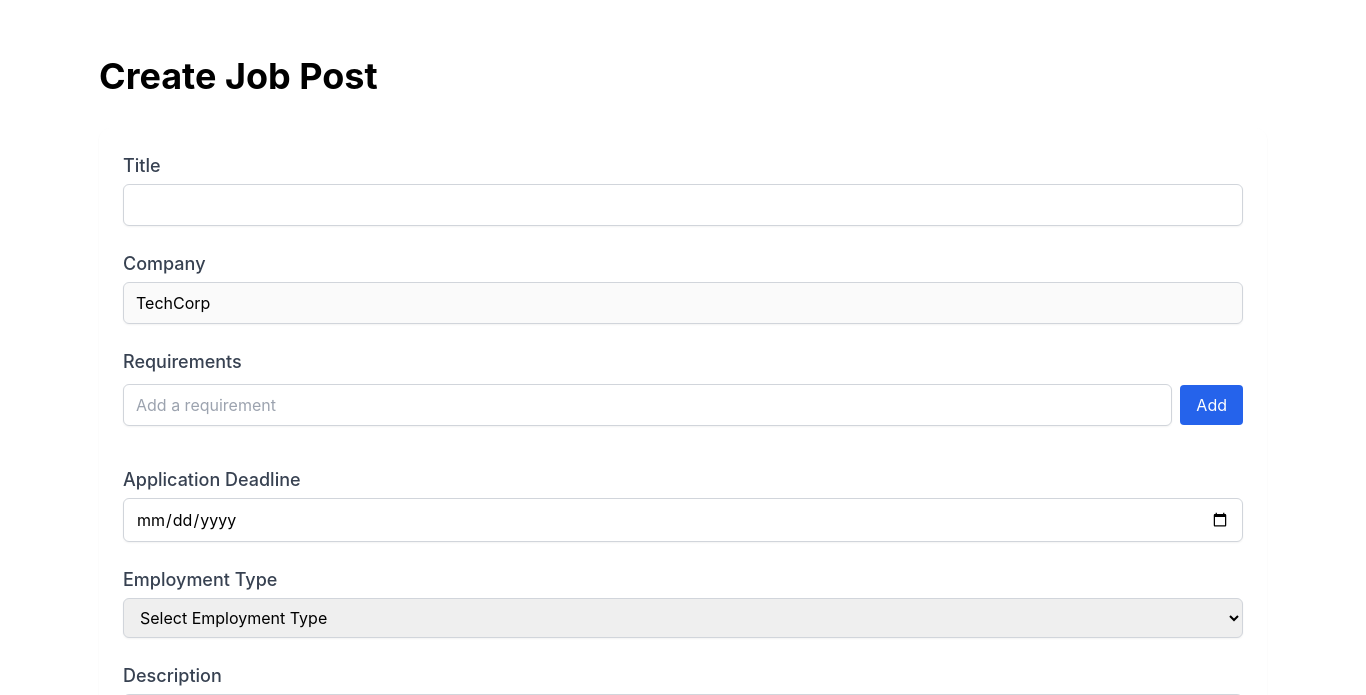
it: CreateJobPost Component › should handle adding and removing requirements
The width and height of the screenshot is (1366, 695).
Expected: the field labelled "Company" holds "TechCorp", top-left (123, 282), bottom-right (1243, 324)
// Add first requirement
Type "5+ years experience" into the field with placeholder "Add a requirement" at (648, 405), box top-left (123, 384), bottom-right (1172, 426)
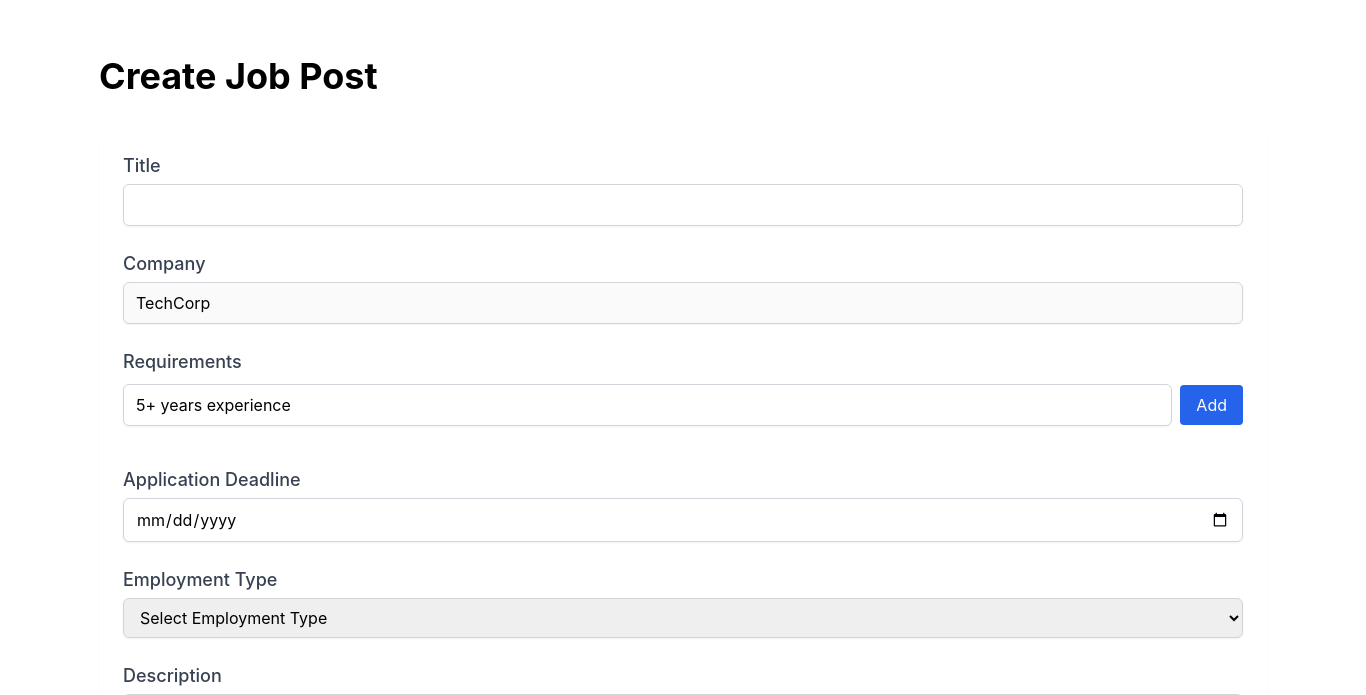
Click the button "Add" at (1212, 405), box top-left (1180, 385), bottom-right (1243, 425)
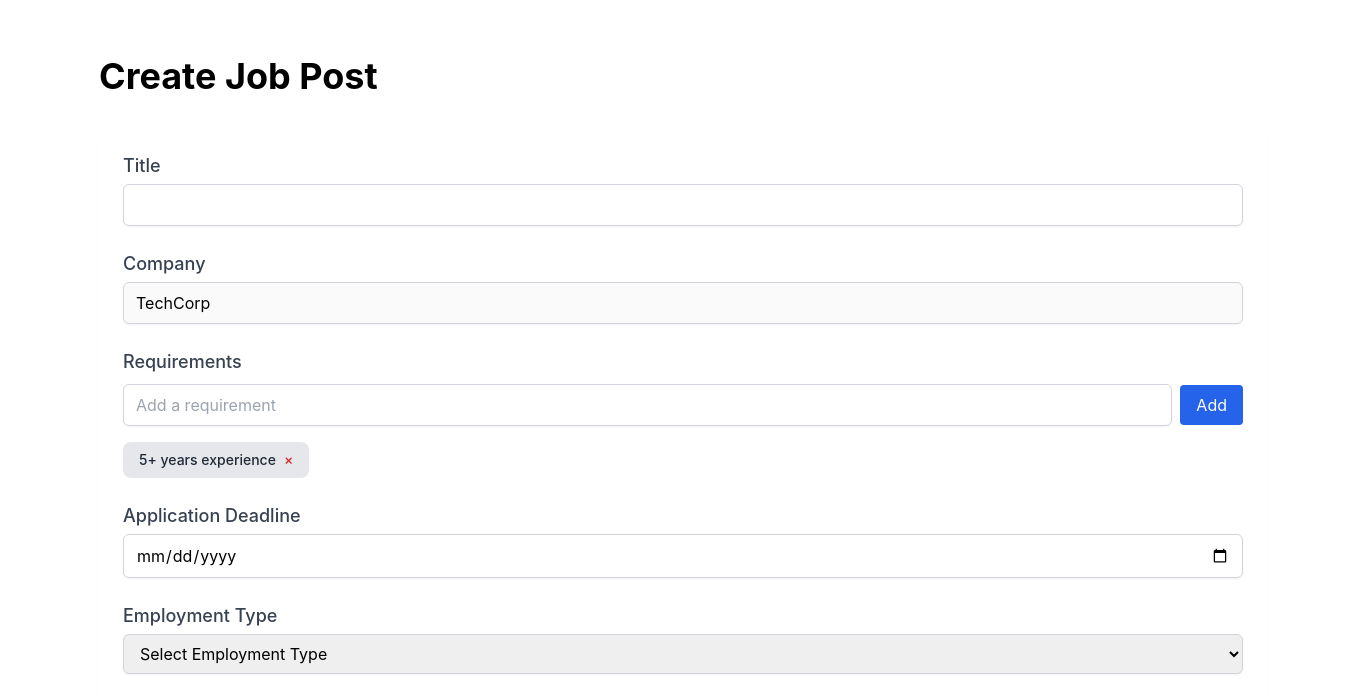
Result: the text "5+ years experience" is shown at top-left (139, 451), bottom-right (276, 468)
// Add second requirement
Type "React expertise" into the field with placeholder "Add a requirement" at (648, 405), box top-left (123, 384), bottom-right (1172, 426)
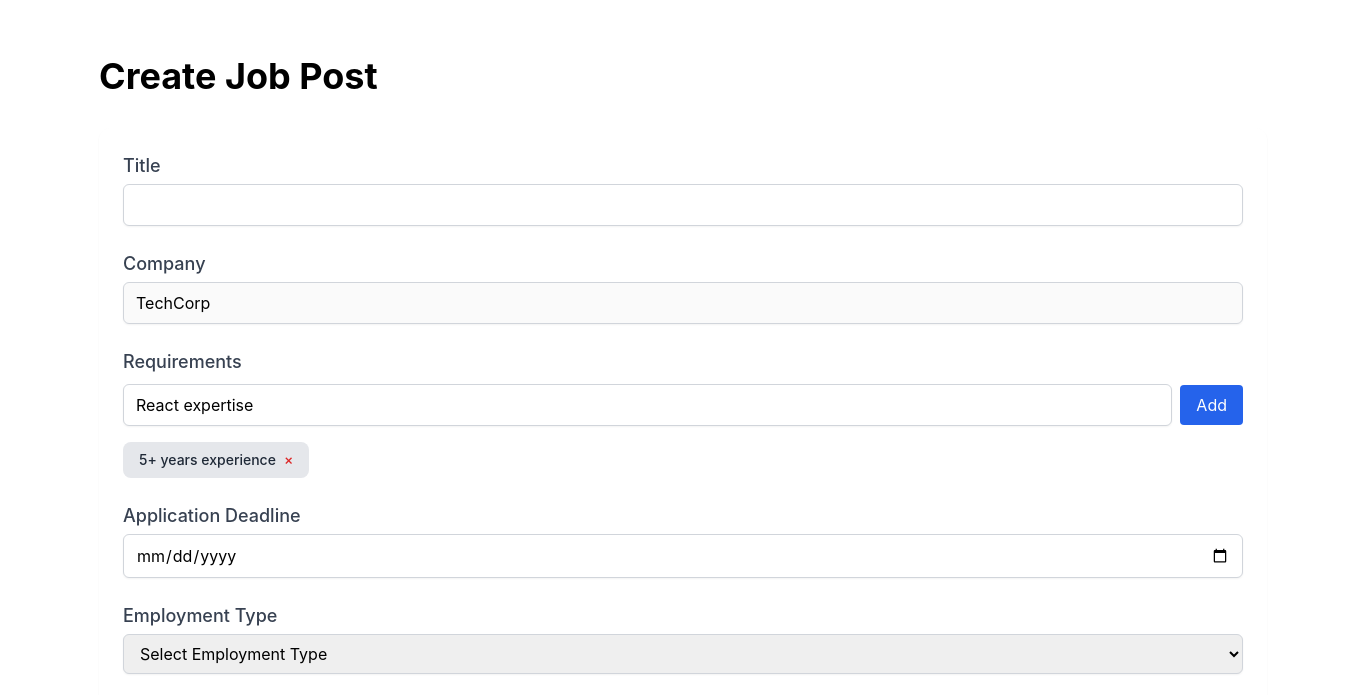
Click the button "Add" at (1212, 405), box top-left (1180, 385), bottom-right (1243, 425)
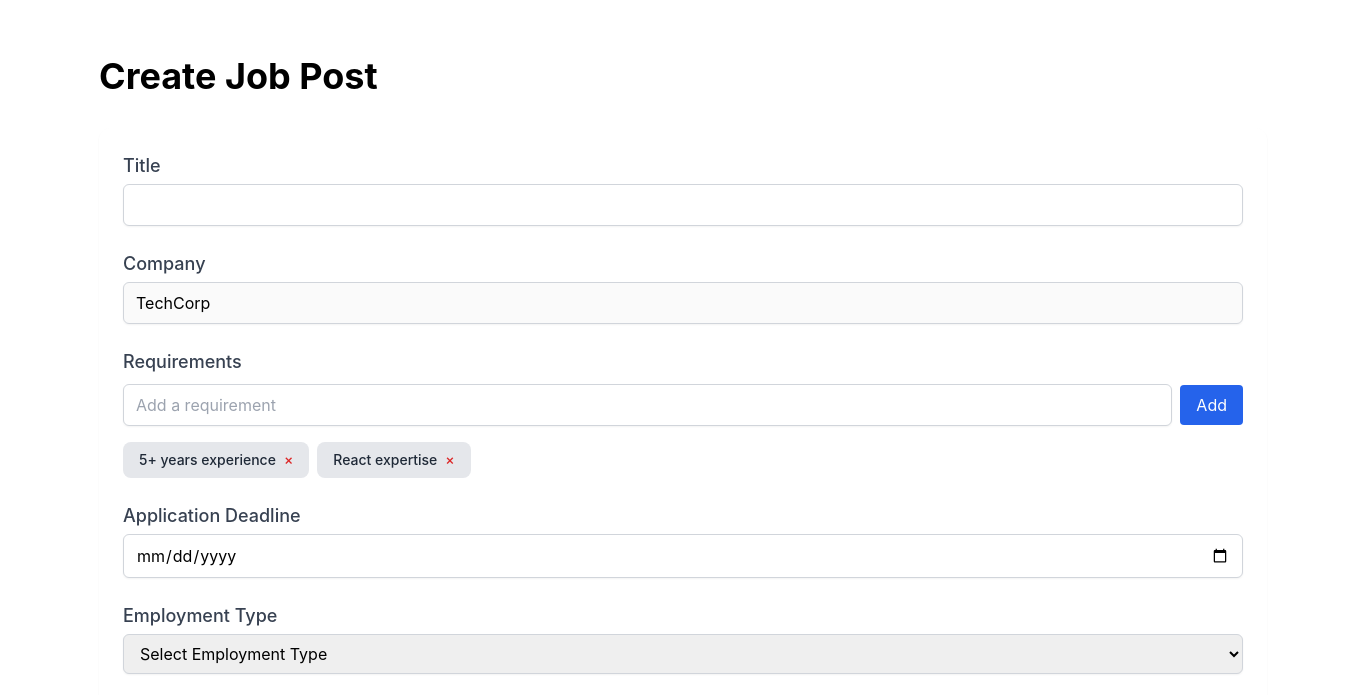
Result: the text "React expertise" is shown at top-left (333, 451), bottom-right (437, 468)
// Remove a requirement
Click the button "×" next to "5+ years experience" at (289, 460), box top-left (284, 450), bottom-right (293, 470)
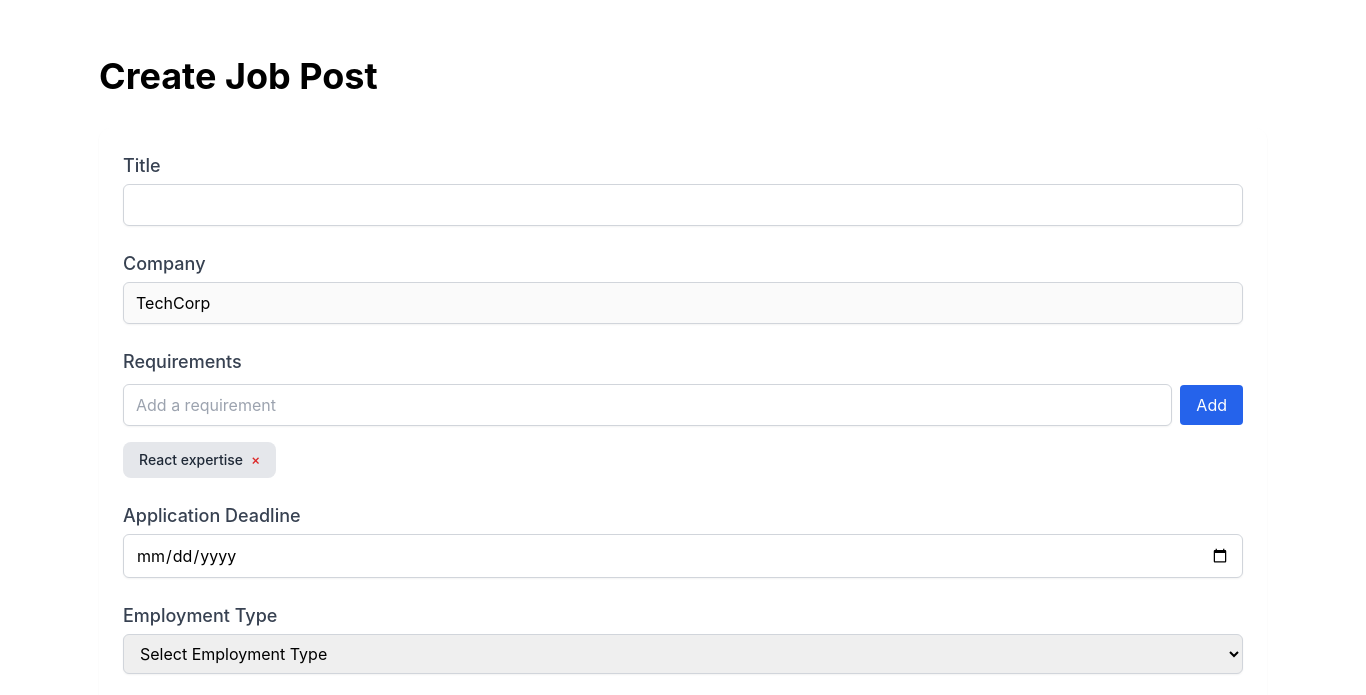
Result: the text "5+ years experience" is gone
Result: the text "React expertise" is shown at top-left (139, 451), bottom-right (243, 468)
